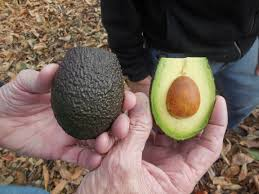fit_avocado: (56, 39, 124, 138)
